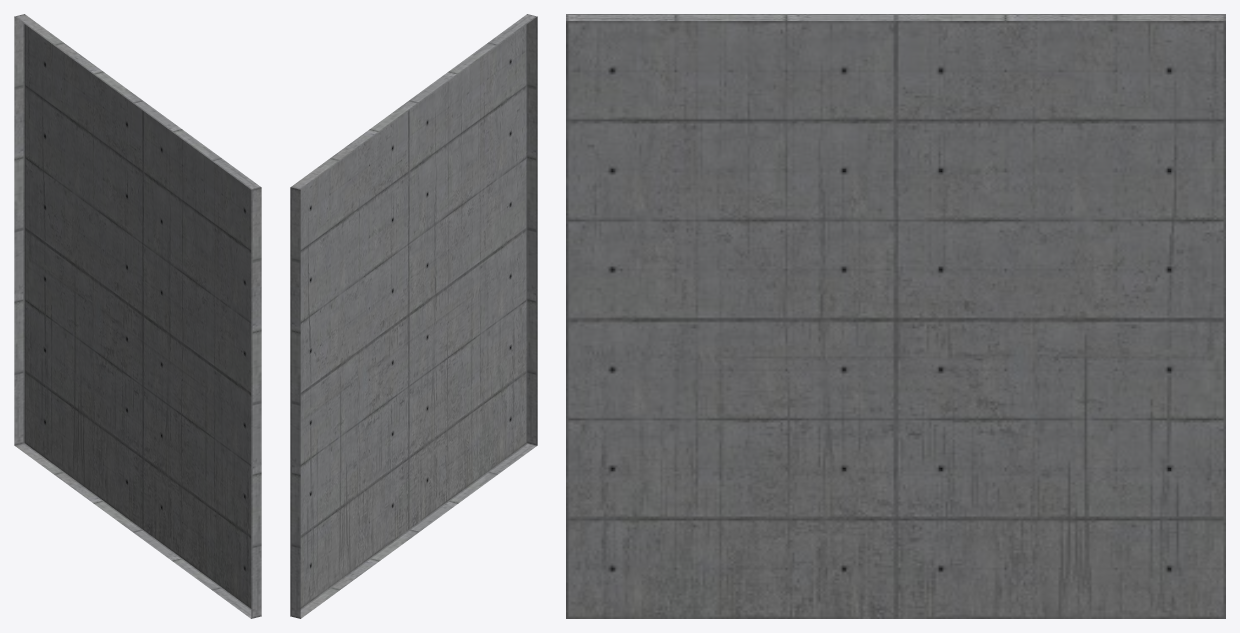
The model's file is Wall.fbx.
3 views of the same model, side by side, from view 1: azimuth 30°, elevation 25°; view 2: azimuth 150°, elevation 25°; view 3: azimuth 270°, elevation 25° (orthographic). The views are drawn at different scales.
Visible parts, largest first — view 1: Cube.001; view 2: Cube.001; view 3: Cube.001.
Part boxes in pixels (box(x1,y1,x2,y2)): Cube.001: box(14, 14, 261, 618); Cube.001: box(290, 14, 537, 618); Cube.001: box(566, 14, 1225, 618).
Size of the model in its own units: 5 by 200 by 200.
